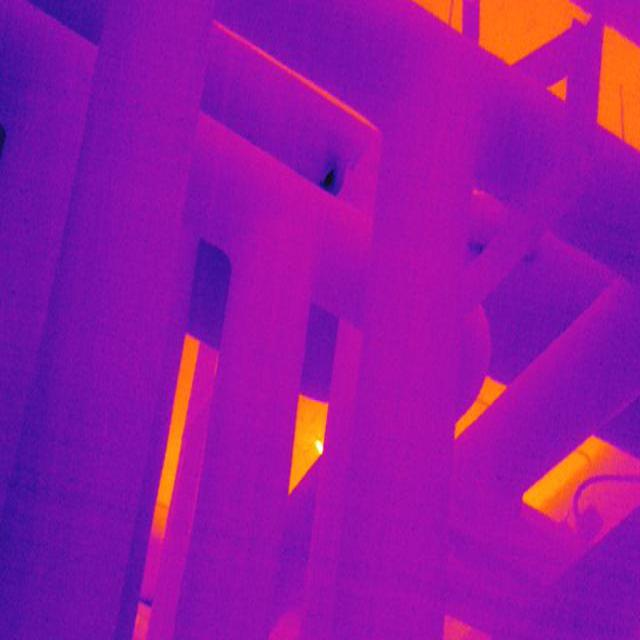leakage: (316, 154, 344, 196)
